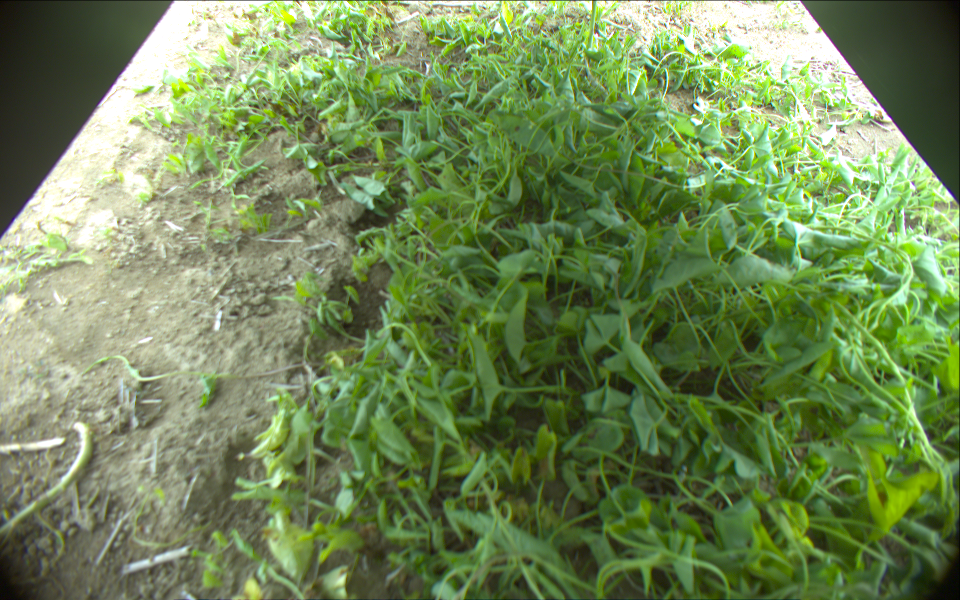aspa: (1, 421, 95, 539), (588, 1, 596, 51)
